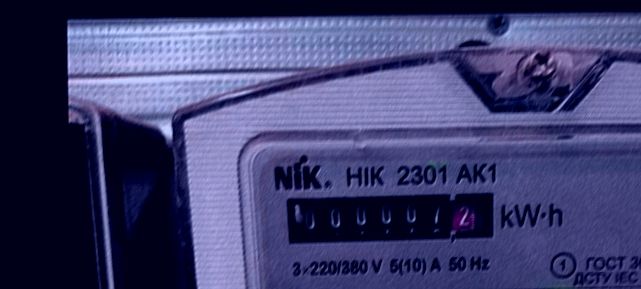0: (302, 206, 316, 230), (379, 202, 393, 225), (404, 200, 417, 224), (328, 205, 341, 228), (354, 203, 367, 226)
2: (457, 204, 470, 227)
7: (430, 200, 442, 224)
screen: (276, 182, 504, 251)
